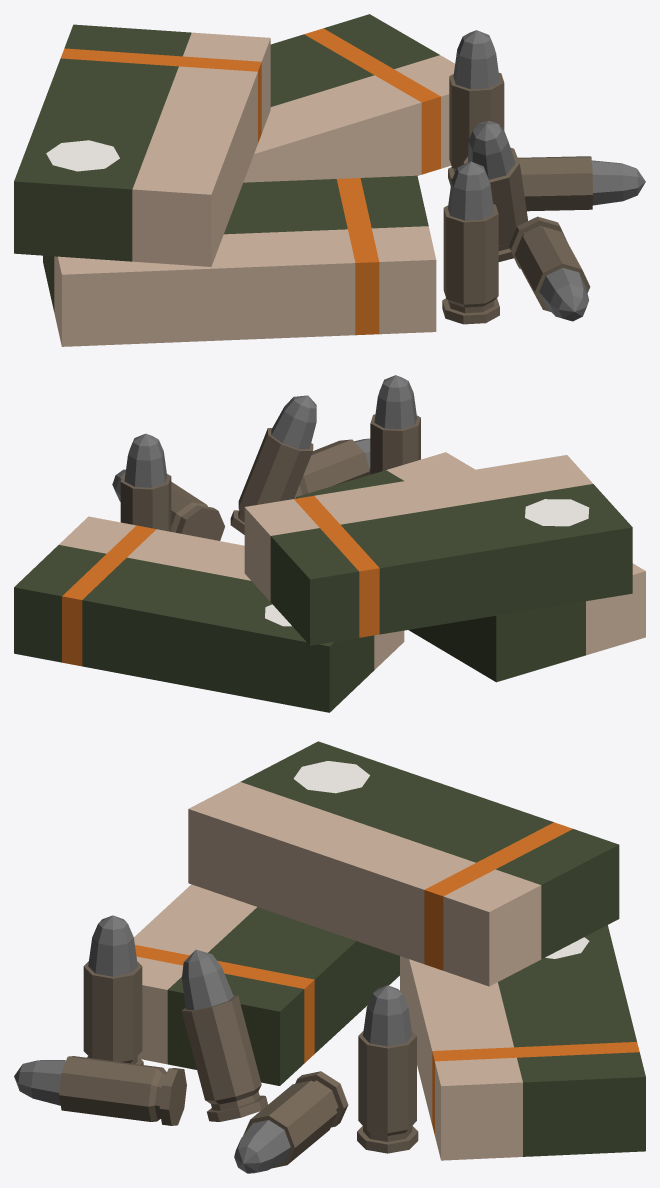
File: SM_Ammo_Box_02.glb
The picture shows the model from 3 angles, top to bottom: view 1: azimuth 30°, elevation 25°; view 2: azimuth 150°, elevation 25°; view 3: azimuth 270°, elevation 25°; orthographic projection. The views are drawn at different scales.
Visible parts, largest first — view 1: SM_Ammo_Box_02; view 2: SM_Ammo_Box_02; view 3: SM_Ammo_Box_02.
Boxes of the visible parts, box(x1,y1,x2,y2) form: SM_Ammo_Box_02: box(14, 14, 645, 346); SM_Ammo_Box_02: box(14, 375, 645, 712); SM_Ammo_Box_02: box(14, 741, 645, 1173).
Bounding box in the file's own units: 0.3041 × 0.0763 × 0.2711.
1 material, 1 textured.
